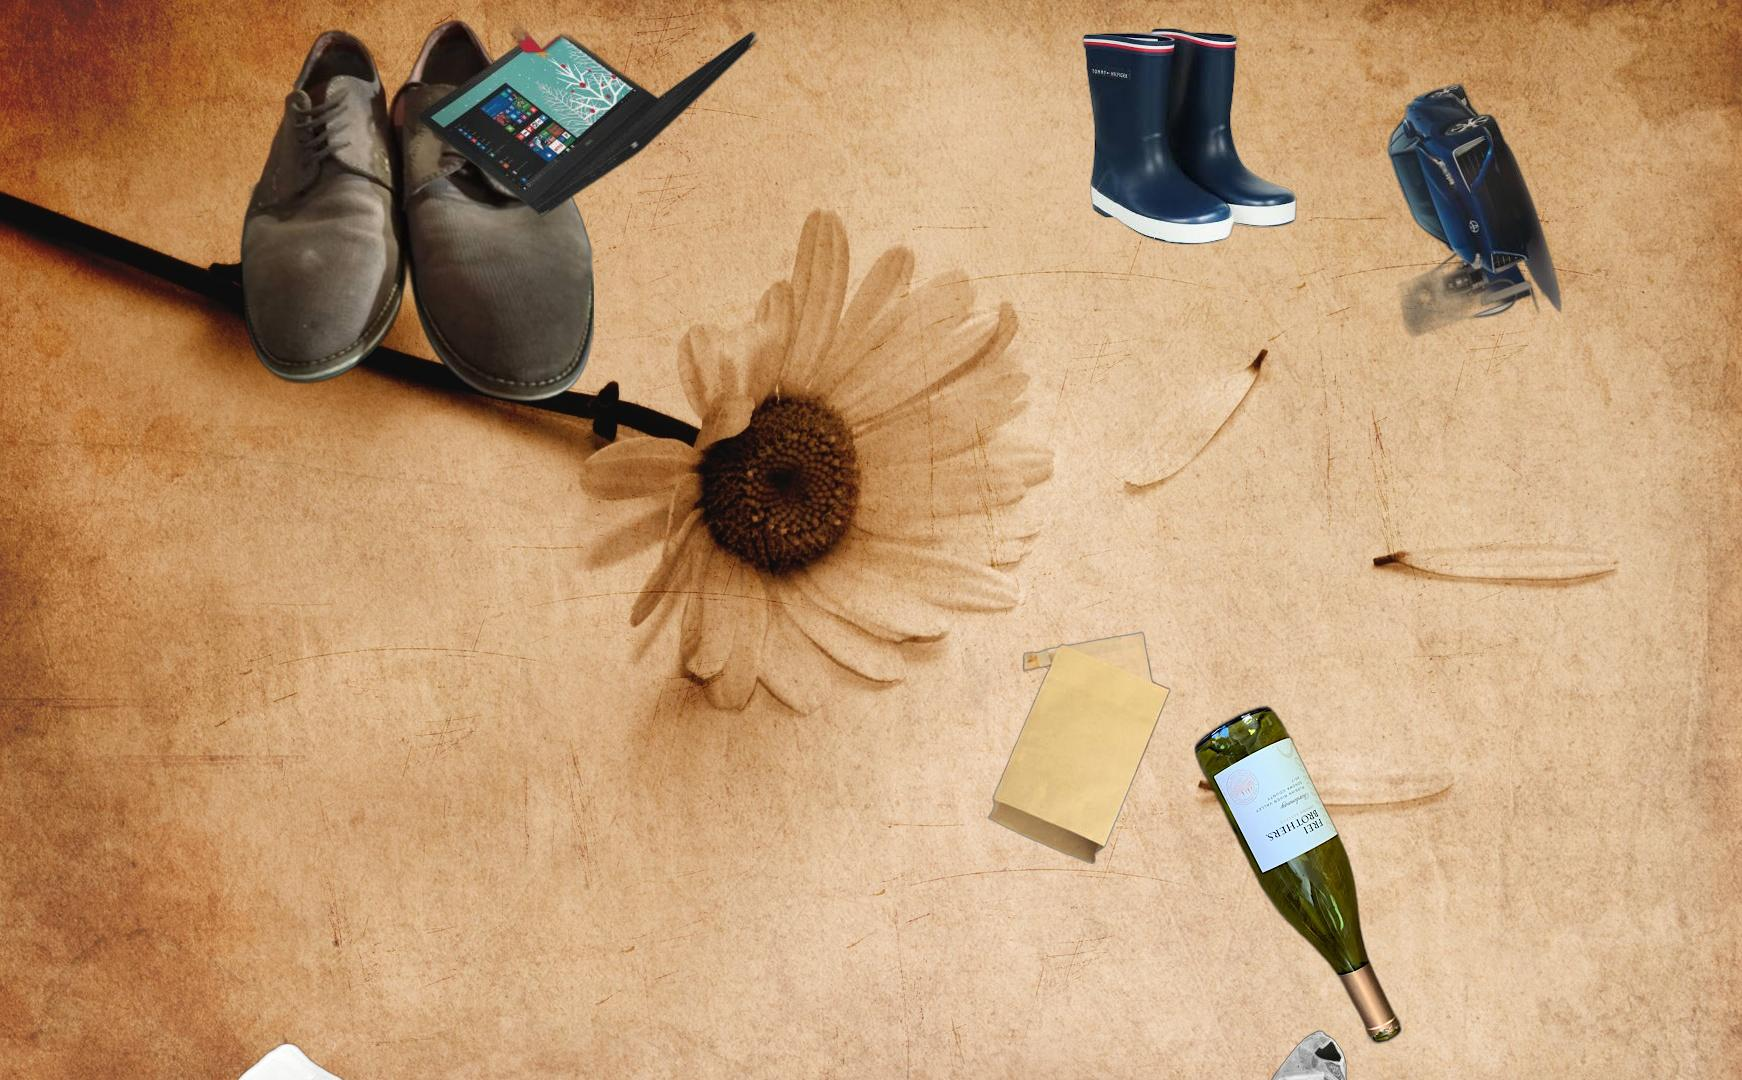glass: (1191, 701, 1406, 1050)
paper: (414, 14, 762, 221), (1382, 81, 1565, 341)
paper-bag: (961, 612, 1260, 865)
plastic-bag: (1255, 1028, 1380, 1080)
shoes: (202, 16, 594, 407), (1080, 26, 1299, 248)
trash: (228, 1041, 375, 1080)
